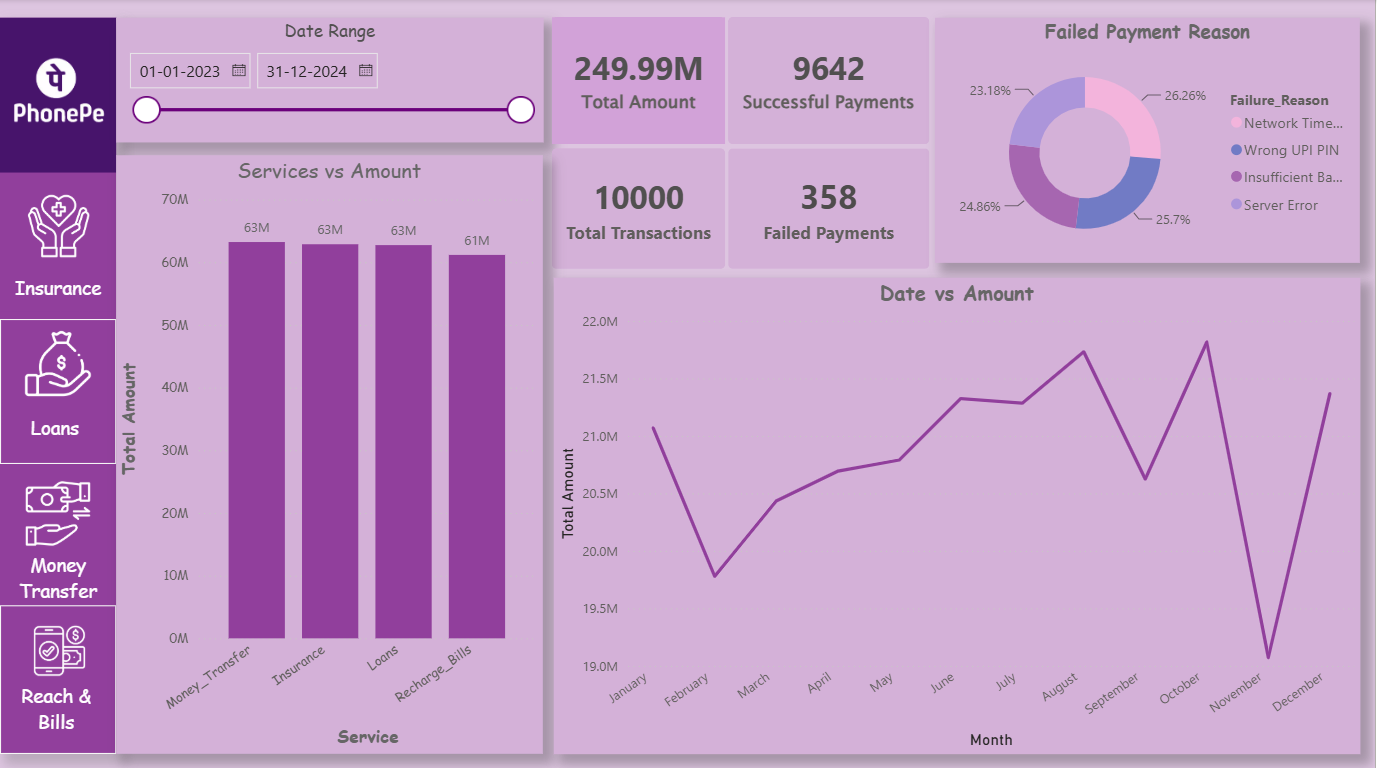

The dashboard page shown, as its layout file describes it:
{"tool":"powerbi","page":{"name":"Home","canvas":[1280,720],"ordinal":0},"visuals":[{"type":"shape","box":[0,17.4,108.1,684.9],"z":0},{"type":"shape","box":[0,17.4,108.1,144.2],"z":1000},{"type":"image","box":[9.3,29.1,90.7,116.3],"z":2000},{"type":"shape","box":[0,245.3,108.1,45.3],"z":3000},{"type":"image","box":[17.4,176.7,74.4,68.6],"z":4000},{"type":"shape","box":[0,297.7,108.1,134.9],"z":5000},{"type":"image","box":[14,304.7,82.6,67.4],"z":6000},{"type":"shape","box":[2.3,372.1,97.7,52.3],"z":7000},{"type":"shape","box":[0,564,108.1,138.4],"z":8000},{"type":"image","box":[17.4,445.4,72.1,66.3],"z":9000},{"type":"shape","box":[0,511.6,108.1,52.3],"z":10000},{"type":"image","box":[20.9,579.1,68.6,54.7],"z":11000},{"type":"shape","box":[2.3,633.7,100,53.5],"z":12000},{"type":"slicer","title":"Date Range","fields":{"Values":["Calendar.Date"]},"box":[108.1,17.4,397.7,116.3],"z":13000},{"type":"cardVisual","fields":{"Data":["Measures (2).Total Amount"]},"box":[496.2,0,195,152.5],"z":14000},{"type":"cardVisual","fields":{"Data":["Measures (2).Successful Payments"]},"box":[660,0,221.2,152.5],"z":15000},{"type":"cardVisual","fields":{"Data":["Measures (2).Total Transactions"]},"box":[496.2,122.5,195,146.2],"z":16000},{"type":"cardVisual","fields":{"Data":["Measures (2).Failed Payments"]},"box":[660,122.5,221.2,146.2],"z":17000},{"type":"clusteredColumnChart","title":"Services vs Amount","fields":{"Y":["Measures (2).Total Amount"],"Category":["Transactions.Service"]},"box":[108.1,145.3,396.5,557],"z":18000},{"type":"donutChart","title":"Failed Payment Reason","fields":{"Category":["Transactions.Failure_Reason"],"Y":["Measures (2).Failed Payments"]},"box":[869.8,17.4,395.3,227.9],"z":19000},{"type":"lineChart","title":"Date vs Amount","fields":{"Category":["Calendar.Month"],"Y":["Measures (2).Total Amount"]},"box":[515.1,259.3,750,443],"z":20000}]}

Visuals, with their boxes in screenshot pixels (x1, y1, x2, y2), scaled from the page's 1280x720 canvas onto the 1377x768 screenshot:
shape: crop(0, 19, 116, 749)
shape: crop(0, 19, 116, 172)
image: crop(10, 31, 108, 155)
shape: crop(0, 262, 116, 310)
image: crop(19, 188, 99, 262)
shape: crop(0, 318, 116, 461)
image: crop(15, 325, 104, 397)
shape: crop(2, 397, 108, 453)
shape: crop(0, 602, 116, 749)
image: crop(19, 475, 96, 546)
shape: crop(0, 546, 116, 601)
image: crop(22, 618, 96, 676)
shape: crop(2, 676, 110, 733)
"Date Range" slicer: crop(116, 19, 544, 143)
cardVisual - Measures (2).Total Amount: crop(534, 0, 744, 163)
cardVisual - Measures (2).Successful Payments: crop(710, 0, 948, 163)
cardVisual - Measures (2).Total Transactions: crop(534, 131, 744, 287)
cardVisual - Measures (2).Failed Payments: crop(710, 131, 948, 287)
"Services vs Amount" clusteredColumnChart: crop(116, 155, 543, 749)
"Failed Payment Reason" donutChart: crop(936, 19, 1361, 262)
"Date vs Amount" lineChart: crop(554, 277, 1361, 749)
